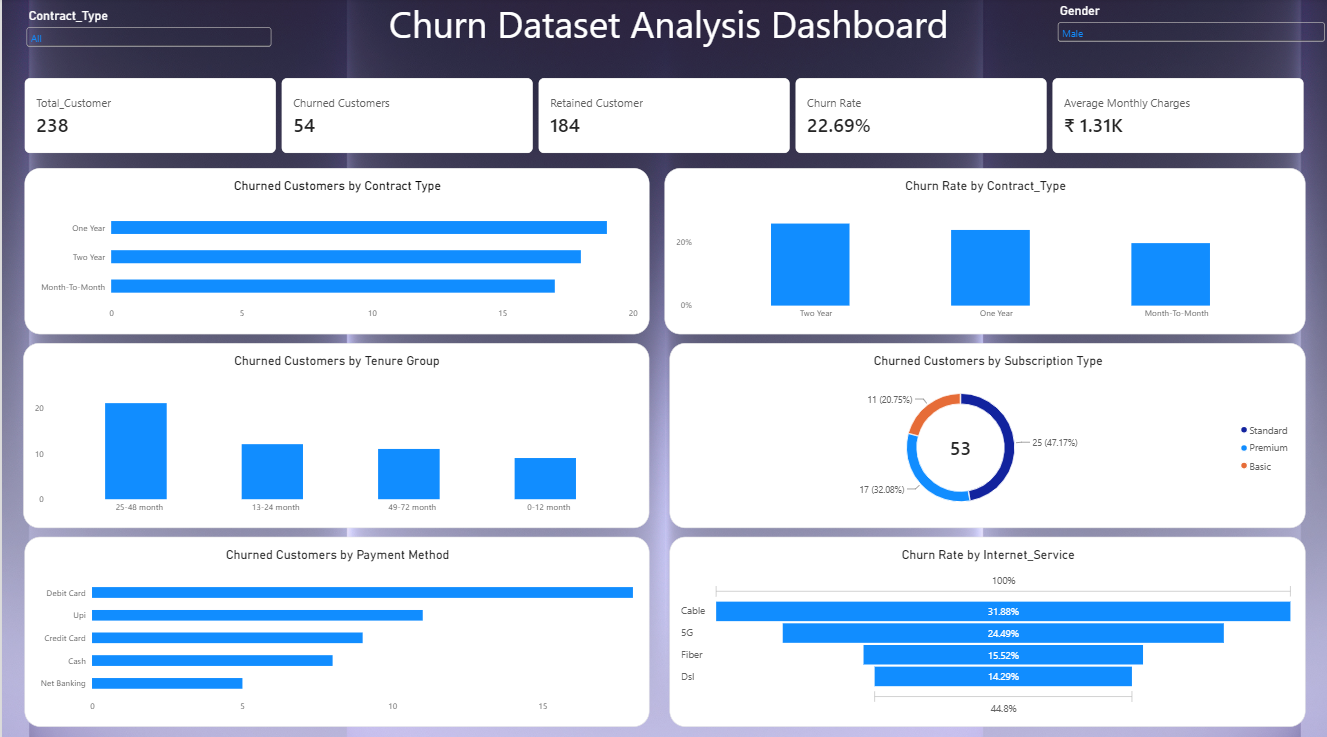

The page's visual inventory and layout, read from the dashboard file:
{"tool":"powerbi","page":{"name":"Page 1","canvas":[1920,1080],"ordinal":0},"visuals":[{"type":"textbox","box":[512.6,0,906.3,150.4],"z":0},{"type":"cardVisual","fields":{"Data":["Dax measure.Total_Customer","Dax measure.Churn Customer","Dax measure.Retained Customer","Dax measure.Churn Rate","Dax measure.Average Monthly Charges"]},"box":[33.4,115.1,1853.5,109.6],"z":1000},{"type":"clusteredBarChart","title":"Churned Customers by Contract Type","fields":{"Category":["Churn_cleaned_data.Contract_Type"],"Y":["Sum(Churn_cleaned_data.Churn_flag)"]},"box":[32.6,246.1,904.8,240.7],"z":2000},{"type":"slicer","fields":{"Values":["Churn_cleaned_data.Gender"]},"box":[1522.9,7.4,397.4,107.7],"z":3000},{"type":"slicer","fields":{"Values":["Churn_cleaned_data.Contract_Type"]},"box":[31.6,14.9,364,92.9],"z":4000},{"type":"columnChart","title":"Churned Customers by Tenure Group","fields":{"Category":["Churn_cleaned_data.Tenure_group"],"Y":["Sum(Churn_cleaned_data.Churn_flag)"]},"box":[30.8,499.5,906.6,267.8],"z":5000},{"type":"clusteredBarChart","title":"Churned Customers by Payment Method","fields":{"Category":["Churn_cleaned_data.Payment_Method"],"Y":["Sum(Churn_cleaned_data.Churn_flag)"]},"box":[32.6,780,904.8,275.1],"z":6000},{"type":"donutChart","title":"Churned Customers by Subscription Type","fields":{"Category":["Churn_cleaned_data.Subscription_Type"],"Y":["Sum(Churn_cleaned_data.Churn_flag)"]},"box":[966.4,499.5,921.1,267.8],"z":7000},{"type":"columnChart","fields":{"Category":["Churn_cleaned_data.Contract_Type"],"Y":["Dax measure.Churn Rate"]},"box":[959.1,246.1,928.4,240.7],"z":7001},{"type":"funnel","fields":{"Category":["Churn_cleaned_data.Internet_Service"],"Y":["Dax measure.Churn Rate"]},"box":[966.4,780,921.1,275.1],"z":7002}]}

Visuals, with their boxes in screenshot pixels (x1, y1, x2, y2), scaled from the page's 1920x1080 canvas onto the 1327x737 screenshot:
textbox: pyautogui.locateOnScreen(354, 0, 981, 103)
cardVisual - Dax measure.Total_Customer x Dax measure.Churn Customer: pyautogui.locateOnScreen(23, 79, 1304, 153)
"Churned Customers by Contract Type" clusteredBarChart: pyautogui.locateOnScreen(23, 168, 648, 332)
slicer - Churn_cleaned_data.Gender: pyautogui.locateOnScreen(1053, 5, 1326, 79)
slicer - Churn_cleaned_data.Contract_Type: pyautogui.locateOnScreen(22, 10, 273, 74)
"Churned Customers by Tenure Group" columnChart: pyautogui.locateOnScreen(21, 341, 648, 524)
"Churned Customers by Payment Method" clusteredBarChart: pyautogui.locateOnScreen(23, 532, 648, 720)
"Churned Customers by Subscription Type" donutChart: pyautogui.locateOnScreen(668, 341, 1305, 524)
columnChart - Churn_cleaned_data.Contract_Type x Dax measure.Churn Rate: pyautogui.locateOnScreen(663, 168, 1305, 332)
funnel - Churn_cleaned_data.Internet_Service x Dax measure.Churn Rate: pyautogui.locateOnScreen(668, 532, 1305, 720)
